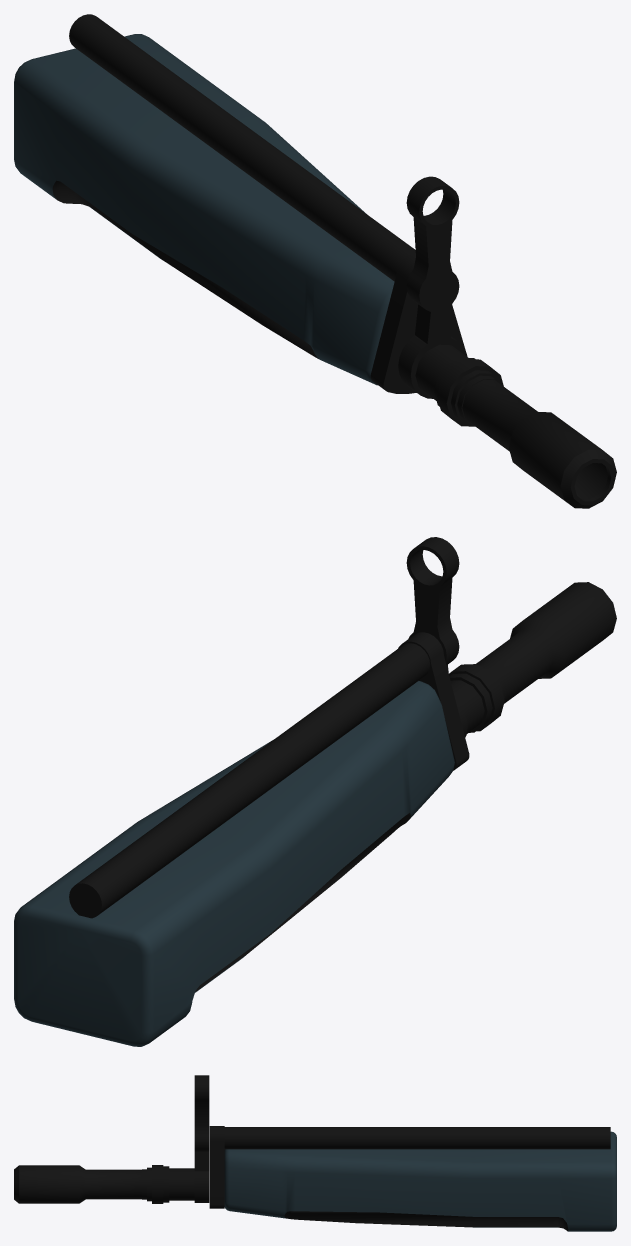
Rendered from barrel_5.fbx.
3 views of the same model, one above another, from view 1: azimuth 30°, elevation 25°; view 2: azimuth 150°, elevation 25°; view 3: azimuth 270°, elevation 25° (orthographic). The views are drawn at different scales.
Parts seen in each view (by area): view 1: barrel_5; view 2: barrel_5; view 3: barrel_5.
Boxes of the visible parts, bbox=[...] form: barrel_5: bbox=[14, 14, 616, 508]; barrel_5: bbox=[14, 537, 616, 1046]; barrel_5: bbox=[14, 1075, 616, 1231].
Size of the model in its own units: 269 by 435 by 1712.
